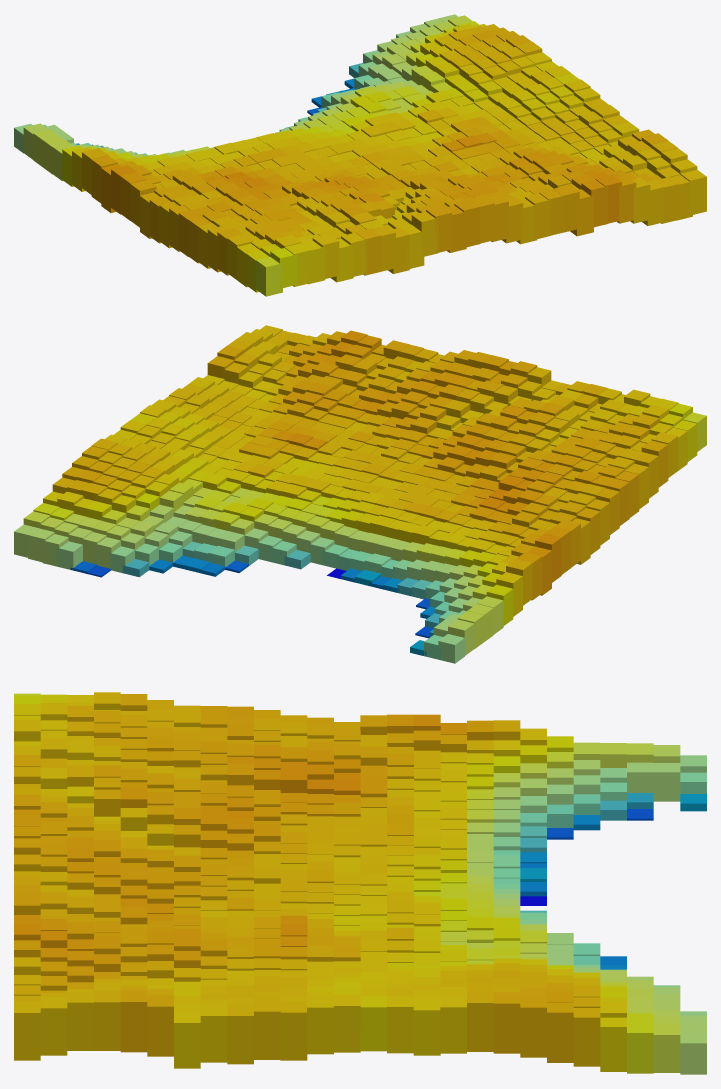
Rendered from population.glb.
3 views of the same model, one above another, from view 1: azimuth 30°, elevation 25°; view 2: azimuth 150°, elevation 25°; view 3: azimuth 270°, elevation 25° (orthographic). The views are drawn at different scales.
Visible parts, largest first — view 1: population; view 2: population; view 3: population.
Boxes of the visible parts, x1=… form: population: x1=14, y1=14, x2=706, y2=296; population: x1=14, y1=325, x2=706, y2=663; population: x1=14, y1=692, x2=706, y2=1074.
Size of the model in its own units: 2619 by 413 by 2591.
